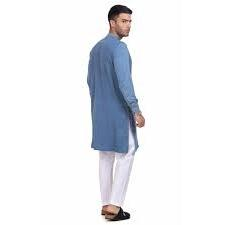Human: (84, 3, 144, 225)
